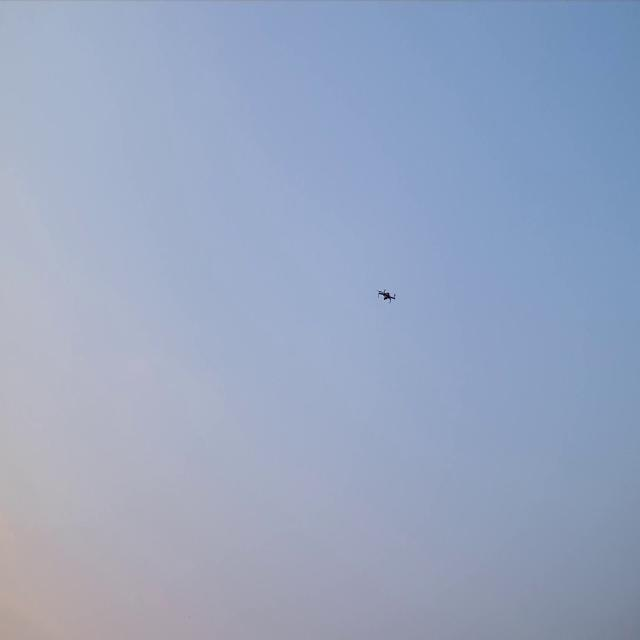UAV: (378, 290, 394, 302)
